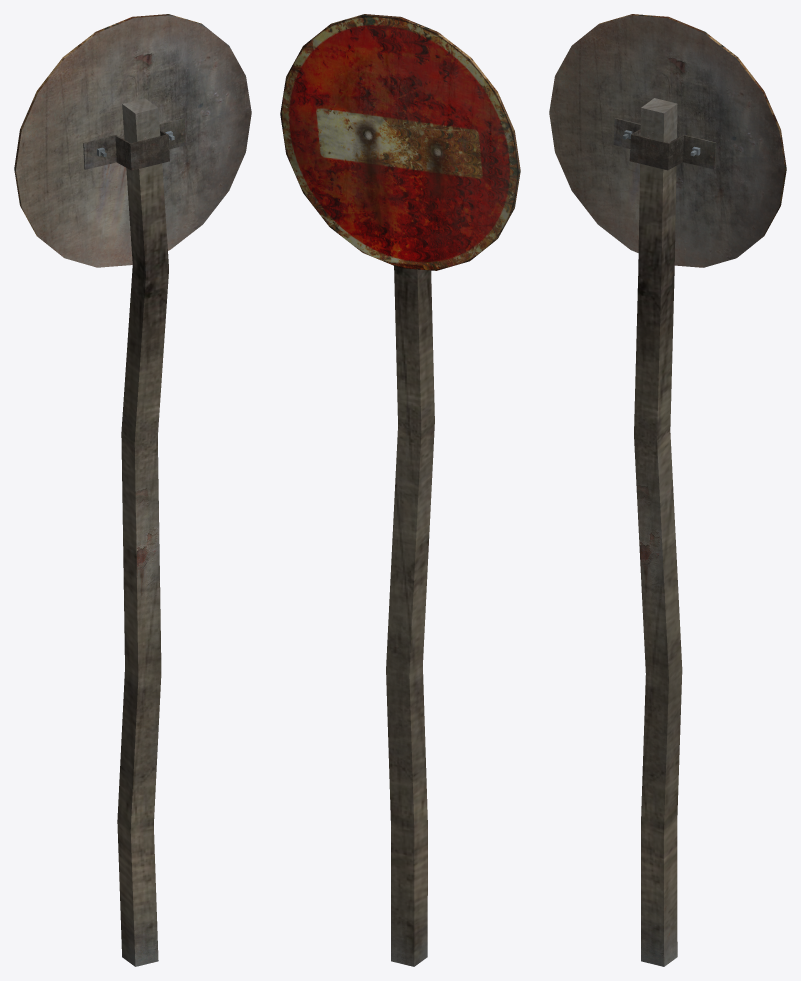
Rendered from placa de pare.fbx.
3 views of the same model, side by side, from view 1: azimuth 30°, elevation 25°; view 2: azimuth 150°, elevation 25°; view 3: azimuth 330°, elevation 25° (orthographic).
Parts seen in each view (by area): view 1: sign; view 2: sign; view 3: sign.
Part boxes in pixels (box(x1,y1,x2,y2)): sign: box(14, 14, 251, 966); sign: box(280, 14, 520, 966); sign: box(549, 14, 786, 966).
Bounding box in the file's own units: 80.98 × 307 × 13.26.
Materials: 1 (1 with a texture image).
